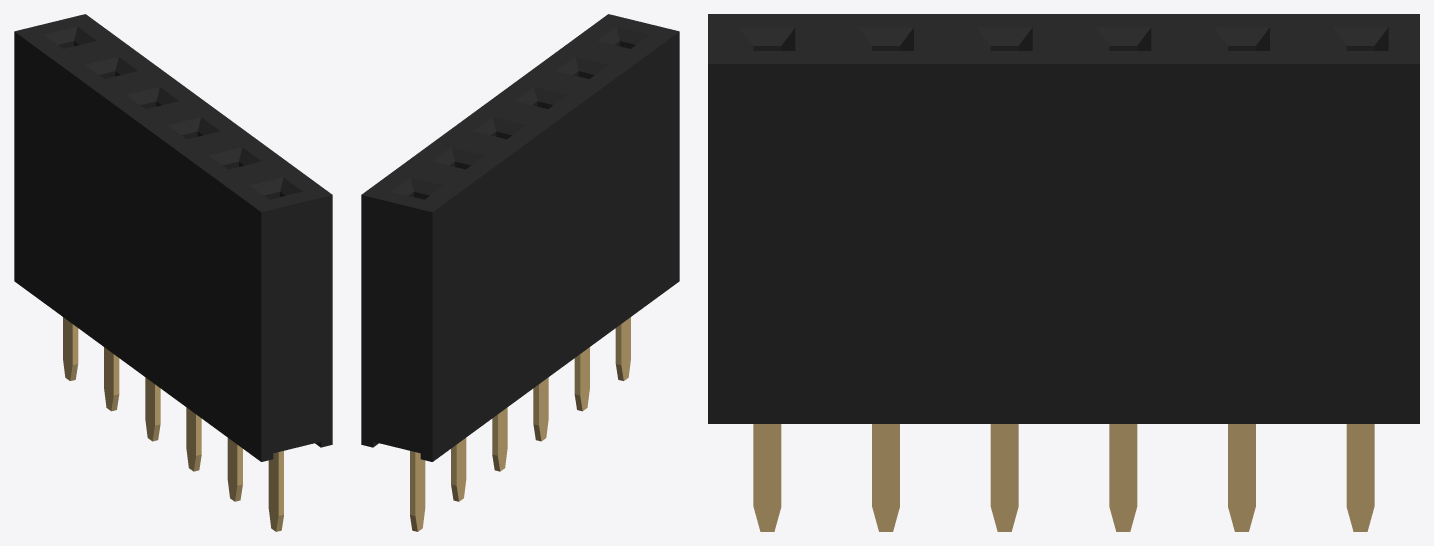
File: pinsocket_1x06_p2_54mm_vertical.glb
3 views of the same model, side by side, from view 1: azimuth 30°, elevation 25°; view 2: azimuth 150°, elevation 25°; view 3: azimuth 270°, elevation 25° (orthographic). The views are drawn at different scales.
Parts seen in each view (by area): view 1: socket_1x06, pin_6, pin_4, pin_5, pin_3, pin_2, pin_1; view 2: socket_1x06, pin_1, pin_2, pin_3, pin_4, pin_5, pin_6; view 3: socket_1x06, pin_1, pin_6, pin_3, pin_4, pin_2, pin_5.
Part boxes in pixels (x1,y1,x2,y2): socket_1x06: (14,14,332,461); pin_6: (268,451,283,531); pin_4: (186,407,201,471); pin_5: (227,438,242,501); pin_3: (145,377,160,441); pin_2: (104,347,119,411); pin_1: (63,317,78,380); socket_1x06: (361,14,679,461); pin_1: (410,451,425,531); pin_2: (451,438,466,501); pin_3: (492,407,507,471); pin_4: (533,377,548,441); pin_5: (574,347,589,411); pin_6: (615,317,630,380); socket_1x06: (708,14,1419,423); pin_1: (1346,424,1374,531); pin_6: (753,424,781,531); pin_3: (1109,424,1137,531); pin_4: (990,424,1018,531); pin_2: (1228,424,1255,531); pin_5: (872,424,899,531).
Size of the model in its own units: 0.00254 by 0.0116 by 0.0152.
